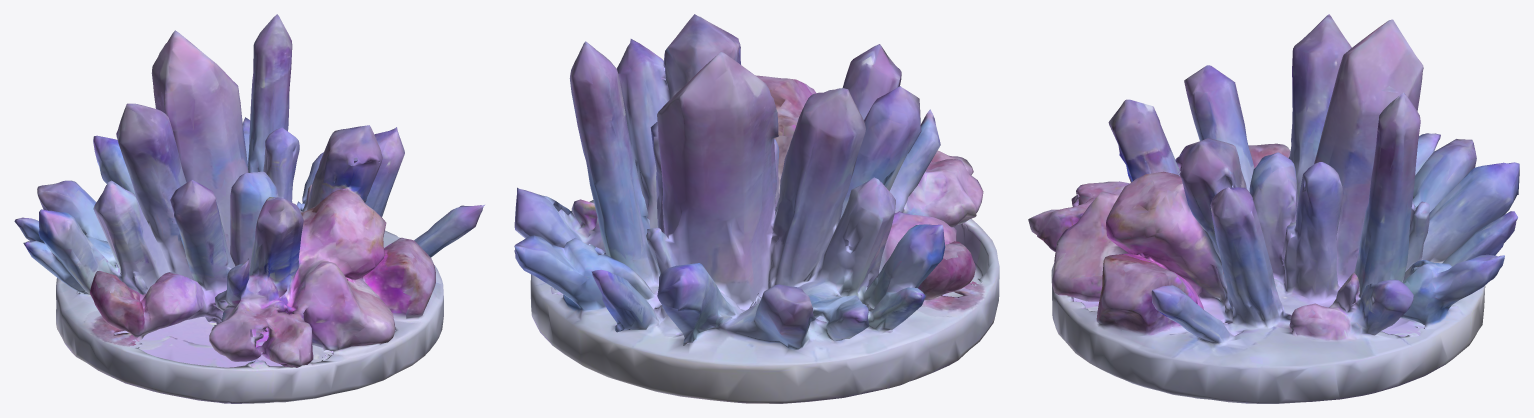
Rendered from A_garden_of_cryst.glb.
The picture shows the model from 3 angles, left to right: view 1: azimuth 30°, elevation 25°; view 2: azimuth 150°, elevation 25°; view 3: azimuth 270°, elevation 25°; orthographic projection. The views are drawn at different scales.
Parts seen in each view (by area): view 1: A_garden_of_cryst; view 2: A_garden_of_cryst; view 3: A_garden_of_cryst.
Boxes of the visible parts, x1,y1,x2,y2 form: A_garden_of_cryst: (14, 14, 484, 403); A_garden_of_cryst: (514, 14, 999, 403); A_garden_of_cryst: (1028, 14, 1519, 403).
Size of the model in its own units: 1.89 by 1.28 by 1.99.
Materials: 1 (1 with a texture image).
